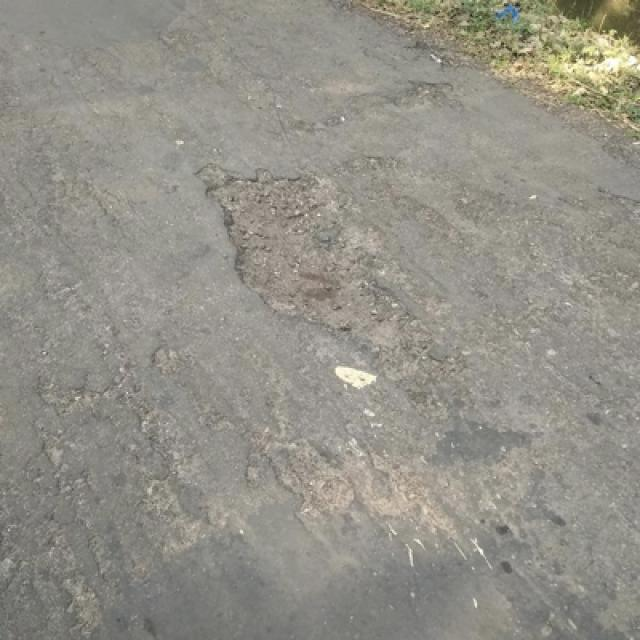jalan_berlubang: (194, 169, 388, 331)
